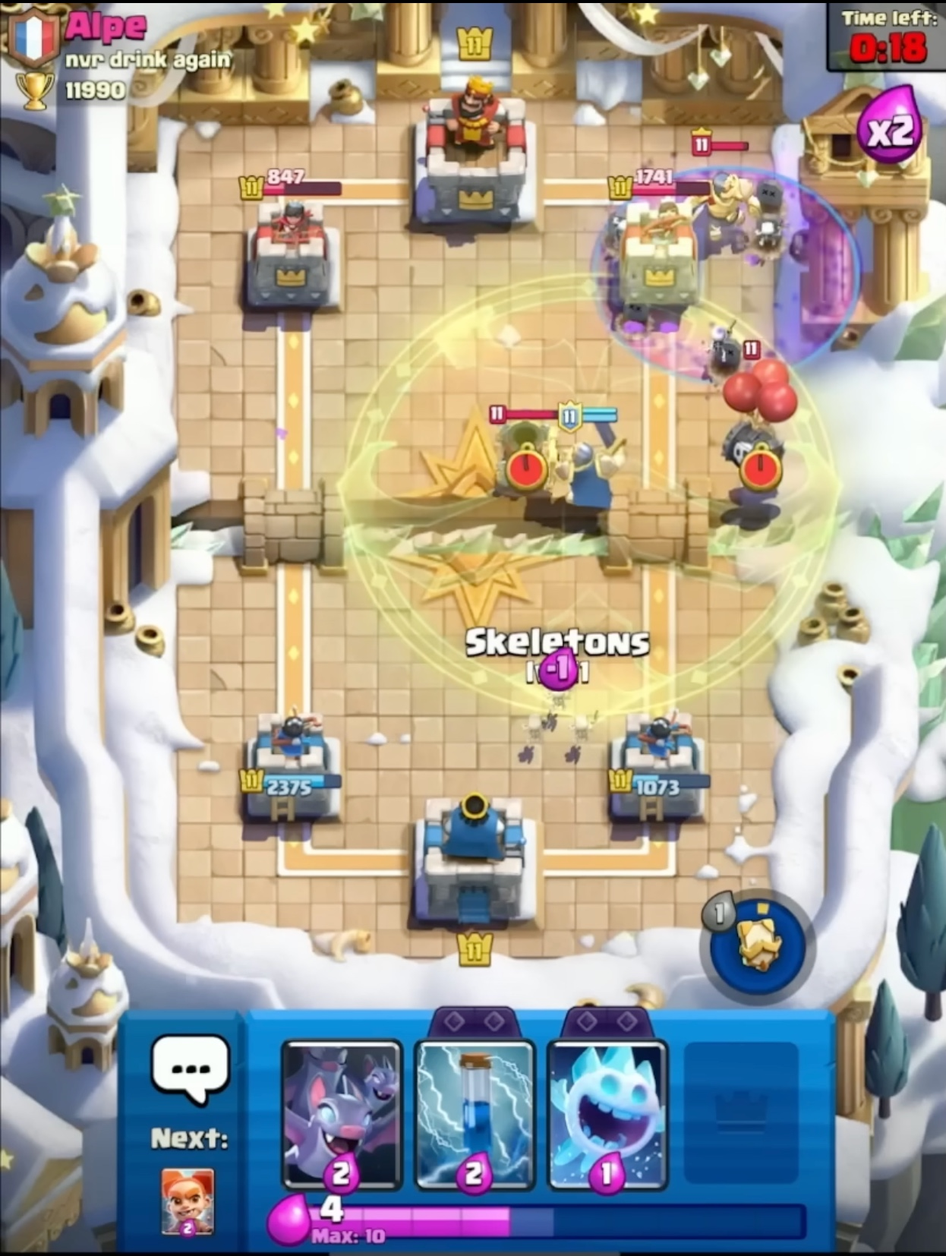hero-knight: (682, 127, 761, 248)
mortar: (484, 395, 564, 499)
skeleton-barrel: (718, 350, 804, 495)
